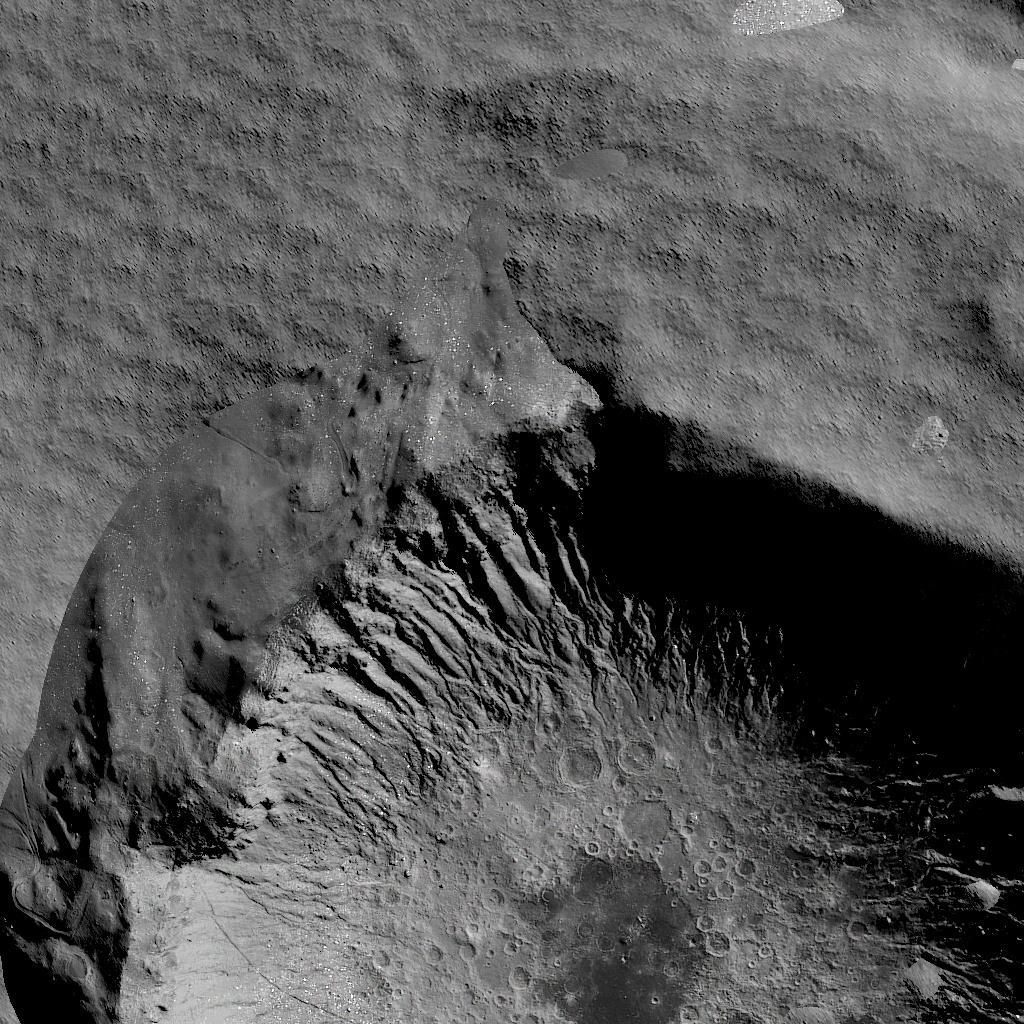Crater: (0, 266, 1024, 1019), (987, 0, 1024, 42)
Plan surface: (14, 5, 960, 237)
